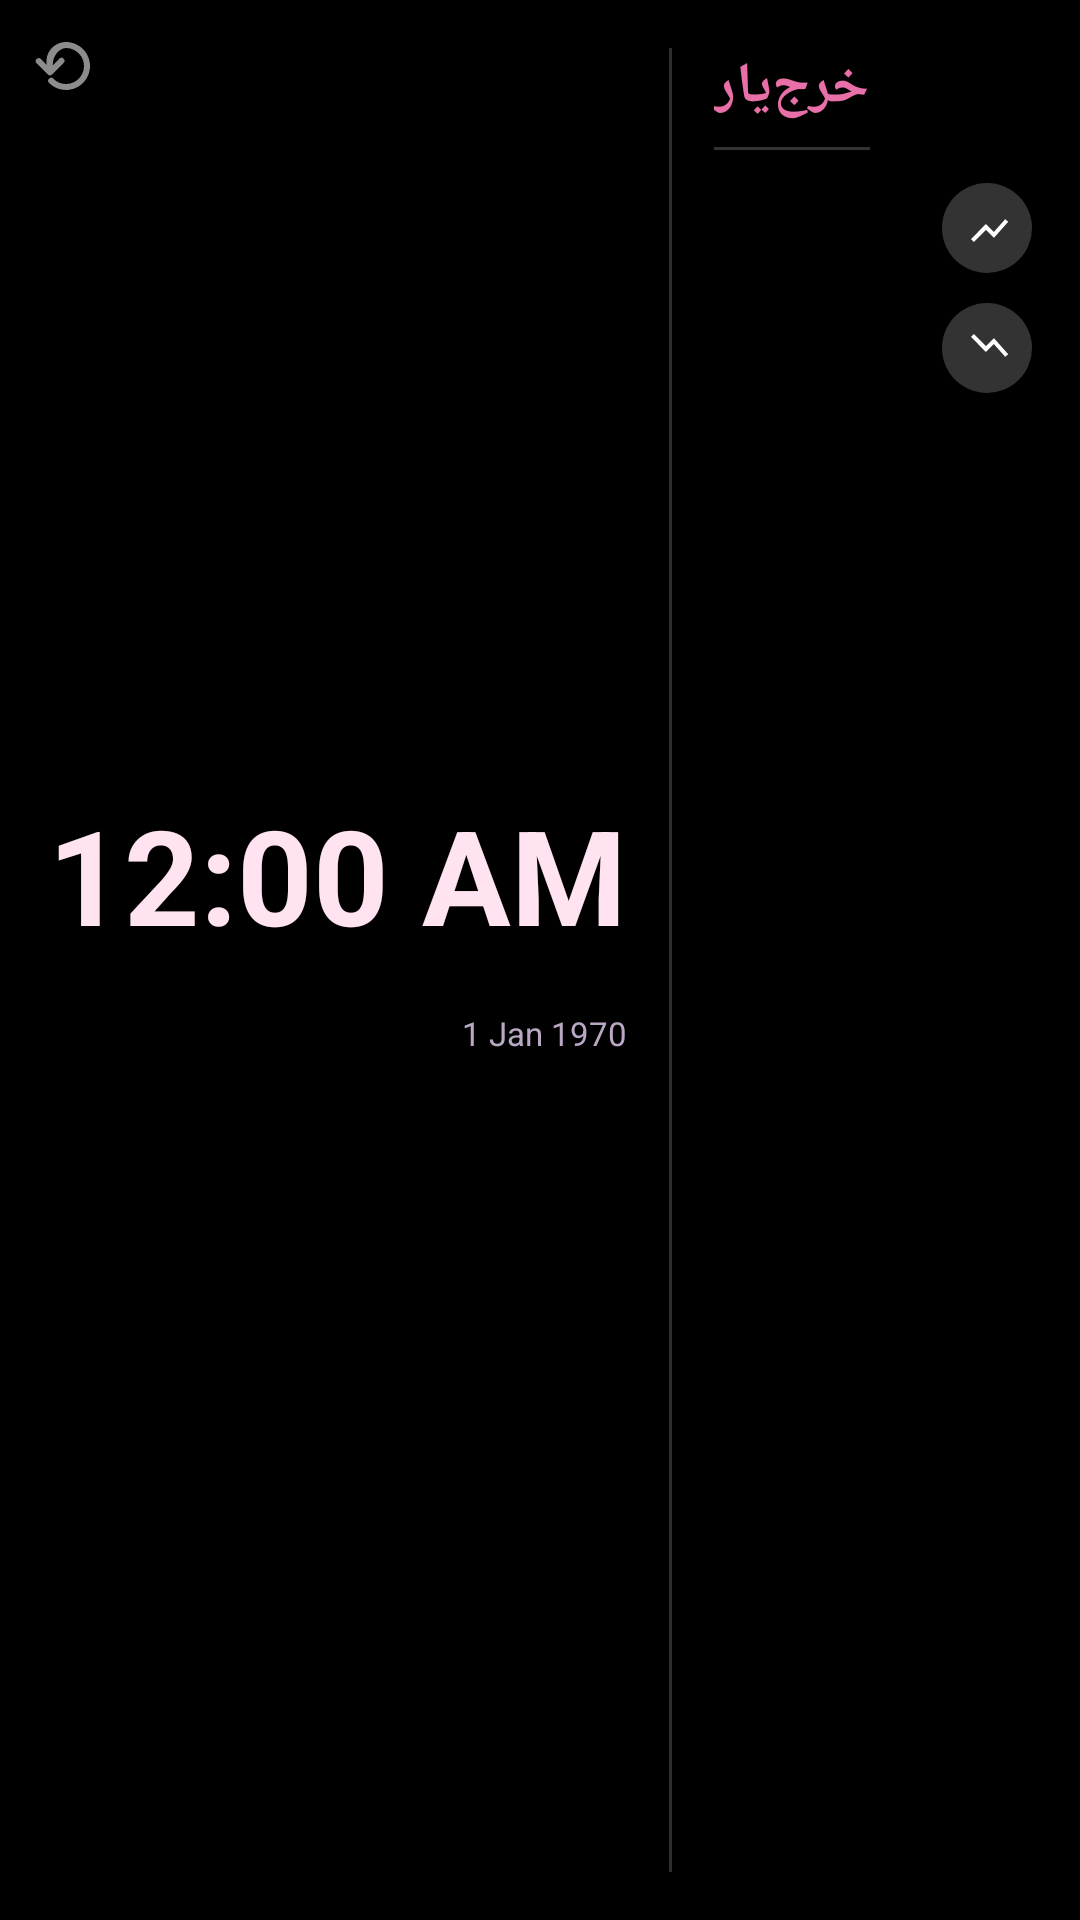

Icons on this 1080x1920 Android screen, each with its box as (x1, y1, x2, y2):
down: (971, 334, 1008, 357)
بروزرسانی اطلاعات ویجت: (35, 42, 90, 90)
